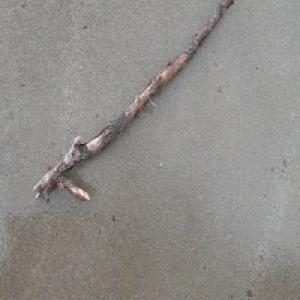Wood: (32, 0, 234, 203)
